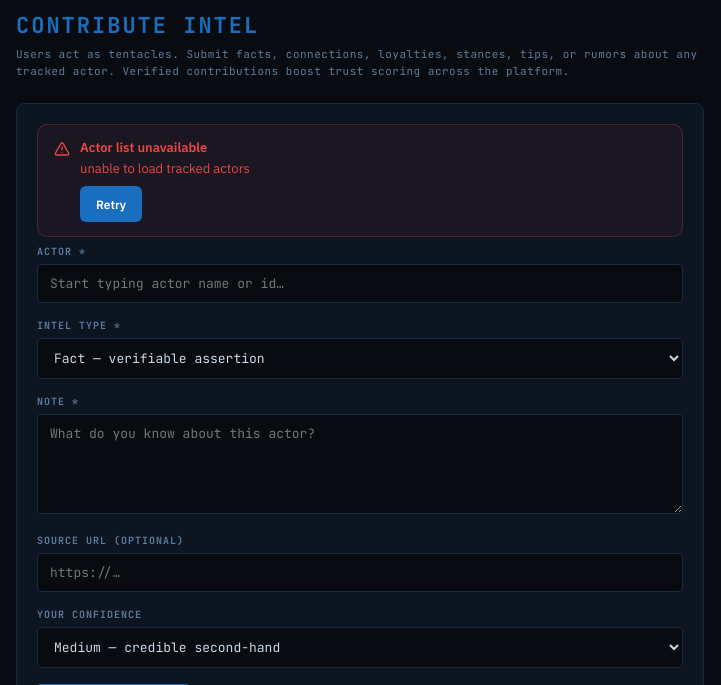
Test case: IntelSubmit view async data › shows an error state on actor-list failure and refetches on retry
Expected: the text "unable to load tracked actors" is shown, [80,160,250,177]
Click the button "Retry": x=111, y=204 [80,186,142,222]
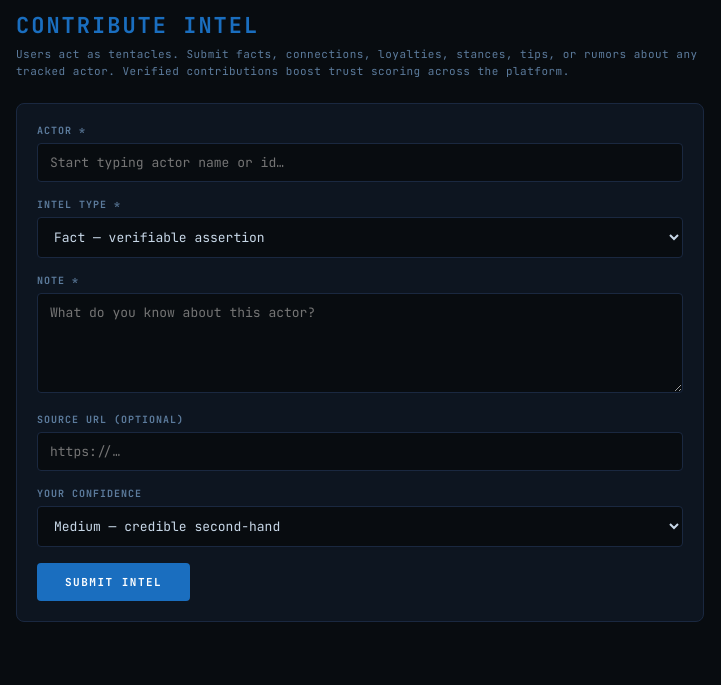
Expected: the text "unable to load tracked actors" is gone
